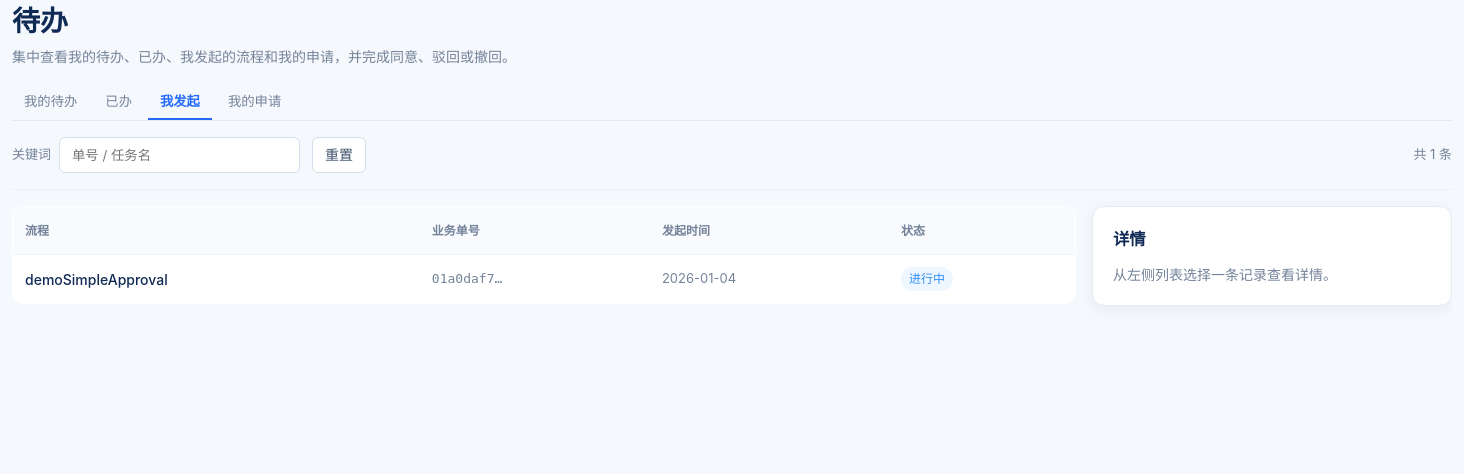
Test case: todo inbox visual standard (Q10) › gives 我发起 its own headers, short references and a secondary 撤回 (Q11)
The width and height of the screenshot is (1464, 474).
Expected: the cell with test id "todo-row-no" reads "01a0daf7…", [432,271,502,286]
Step 1. Click the row with test id "todo-row" → (544, 279), box [12,254,1076,304]
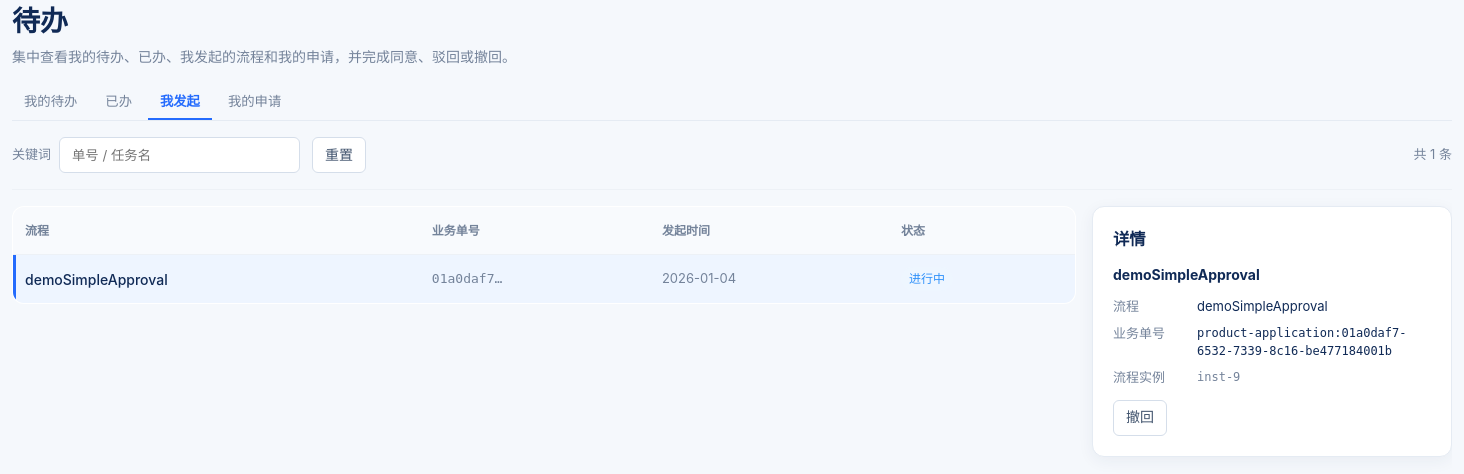
Result: the element with class "detail" shows "product-application:01a0daf7-6532-7339-8c16-be477184001b" at [1197,326,1406,358]
